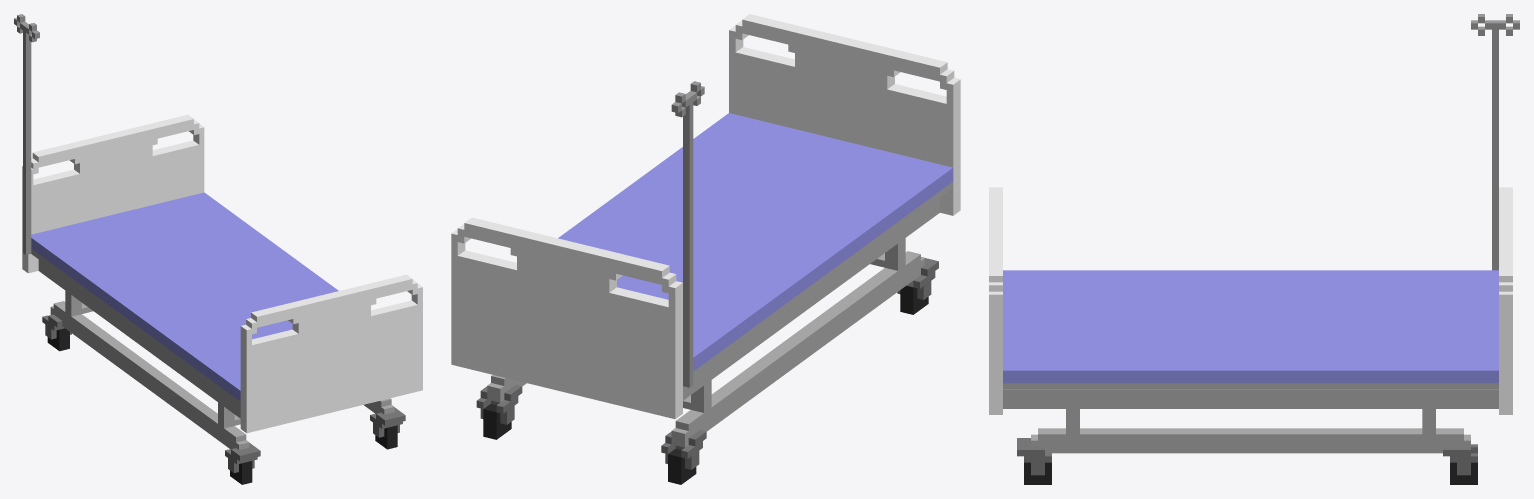
File: Operating room bed3.fbx
3 views of the same model, side by side, from view 1: azimuth 30°, elevation 25°; view 2: azimuth 150°, elevation 25°; view 3: azimuth 270°, elevation 25° (orthographic). The views are drawn at different scales.
Parts seen in each view (by area): view 1: Operating room bed3.001; view 2: Operating room bed3.001; view 3: Operating room bed3.001.
Boxes of the visible parts, left/top/right/bottom form: Operating room bed3.001: left=14, top=14, right=422, bottom=484; Operating room bed3.001: left=451, top=14, right=960, bottom=484; Operating room bed3.001: left=989, top=14, right=1519, bottom=484.
Bounding box in the file's own units: 3.5 × 5.9 × 7.6.
